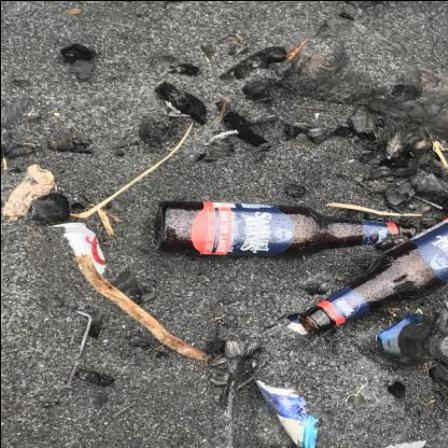Bottle: (297, 218, 448, 336), (154, 201, 417, 257), (376, 312, 448, 367)
Can: (48, 224, 108, 276)
Other litter: (63, 312, 93, 388)
Unlabeled litter: (254, 319, 320, 448)
